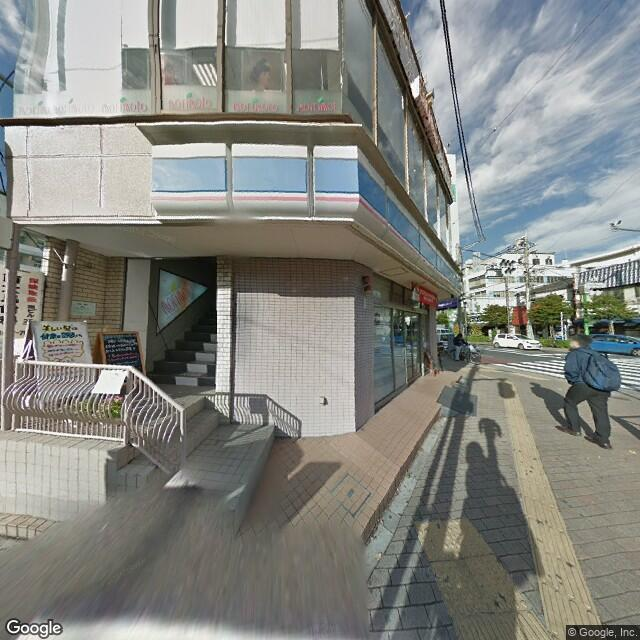lawson: (146, 148, 463, 300)
